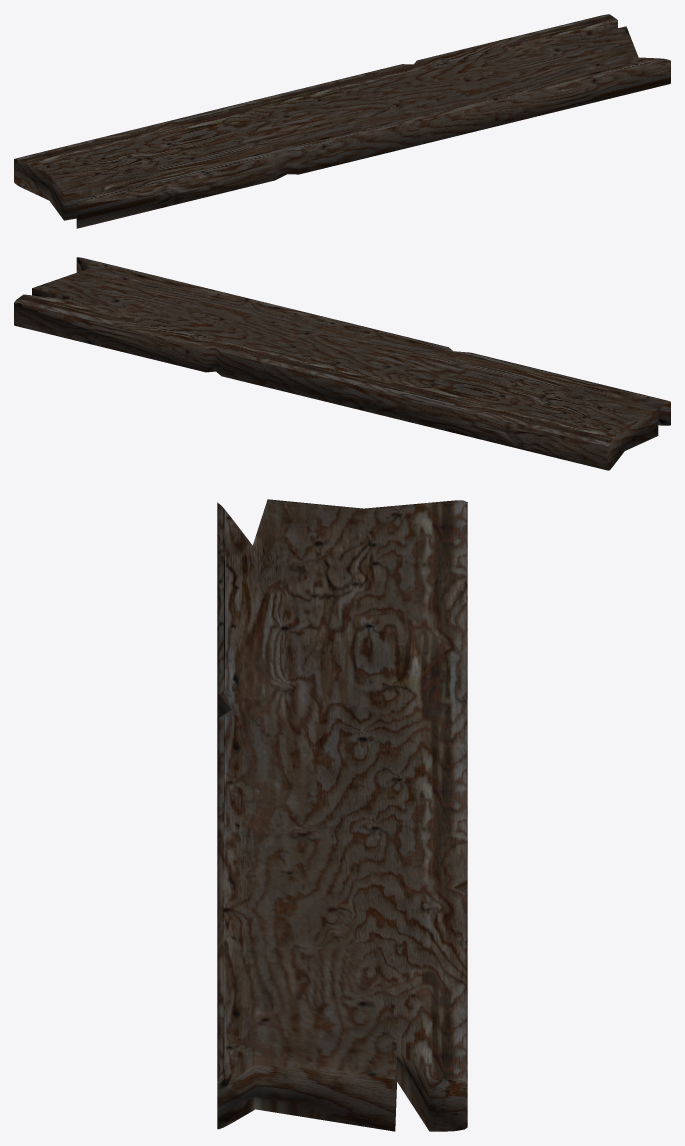
The model's file is Tabla_Madera.fbx.
3 renders of one model, top to bottom at view 1: azimuth 30°, elevation 25°; view 2: azimuth 150°, elevation 25°; view 3: azimuth 270°, elevation 25°, orthographic. The views are drawn at different scales.
Parts seen in each view (by area): view 1: Planchas; view 2: Planchas; view 3: Planchas.
Boxes of the visible parts, x1,y1,x2,y2 form: Planchas: (14, 14, 670, 228); Planchas: (14, 257, 670, 470); Planchas: (217, 499, 467, 1131).
Bounding box in the file's own units: 1096 × 46.43 × 200.
